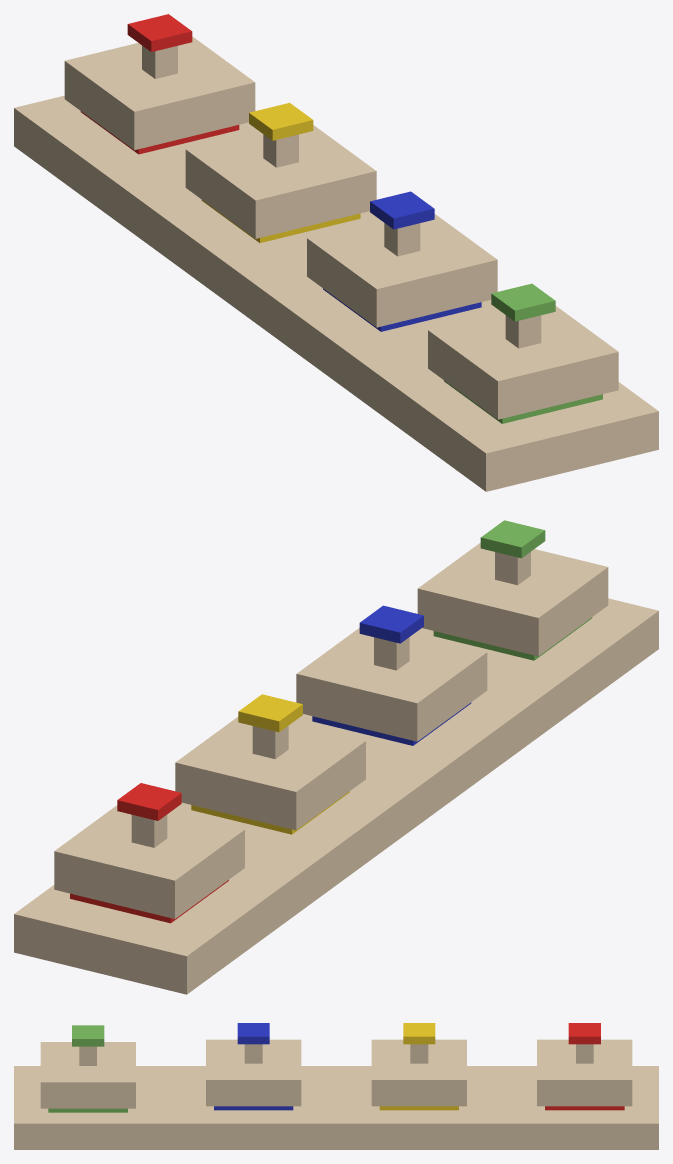
Rendered from stamps.fbx.
The picture shows the model from 3 angles, top to bottom: view 1: azimuth 30°, elevation 25°; view 2: azimuth 150°, elevation 25°; view 3: azimuth 270°, elevation 25°; orthographic projection. The views are drawn at different scales.
Parts seen in each view (by area): view 1: Plane.010, Plane.009, Plane.003, Plane.005, Plane.007; view 2: Plane.010, Plane.003, Plane.007, Plane.009, Plane.005; view 3: Plane.010, Plane.003, Plane.005, Plane.007, Plane.009.
Part boxes in pixels (x1,y1,x2,y2): Plane.010: (14,95,658,491); Plane.009: (428,283,618,423); Plane.003: (64,14,255,154); Plane.005: (185,102,376,242); Plane.007: (307,191,497,331); Plane.010: (14,598,658,994); Plane.003: (54,783,244,923); Plane.007: (296,605,487,745); Plane.009: (417,520,608,660); Plane.005: (175,694,365,834); Plane.010: (14,1066,658,1149); Plane.003: (537,1023,632,1110); Plane.005: (371,1023,466,1110); Plane.007: (206,1023,301,1110); Plane.009: (40,1025,135,1112).
Bounding box in the file's own units: 16.47 × 12.89 × 77.93.
